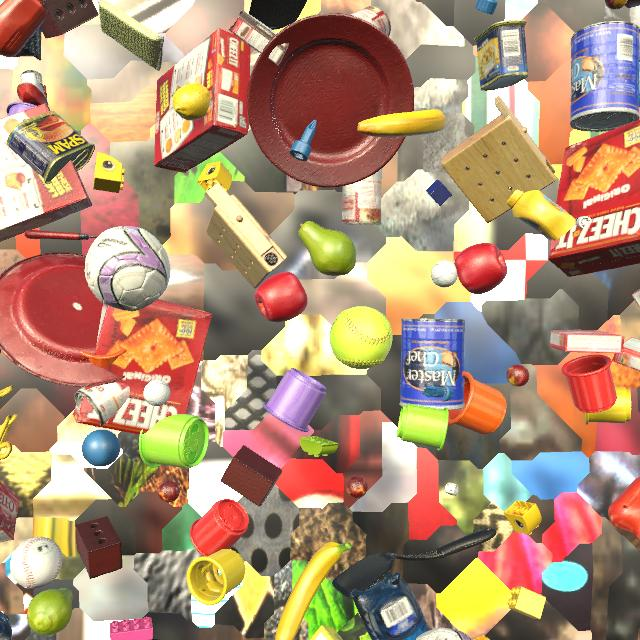ycb_002_master_chef_can: (570, 21, 640, 132), (400, 318, 466, 410)
ycb_003_cracker_box: (73, 299, 212, 435), (548, 120, 640, 277), (154, 28, 251, 173), (0, 103, 92, 242), (12, 639, 13, 640)
ycb_004_sugar_box: (310, 625, 343, 640)
ycb_005_tomato_soup_can: (74, 382, 130, 428), (341, 169, 382, 225), (351, 6, 391, 36)
ycb_006_mustard_bottle: (506, 187, 576, 241)
ycb_008_pudding_box: (229, 10, 289, 66)
ycb_009_gelatin_box: (550, 329, 625, 354), (0, 481, 20, 543), (612, 337, 640, 371), (632, 289, 640, 308), (0, 350, 1, 353)
ycb_010_potted_meat_can: (7, 111, 95, 184), (474, 20, 528, 91)
ycb_011_banana: (275, 542, 351, 640), (357, 109, 446, 137)
ycb_013_apple: (454, 243, 508, 294), (255, 272, 308, 322)
ycb_014_lemon: (172, 83, 210, 121)
ycb_016_pear: (298, 221, 356, 276), (27, 588, 73, 635)
